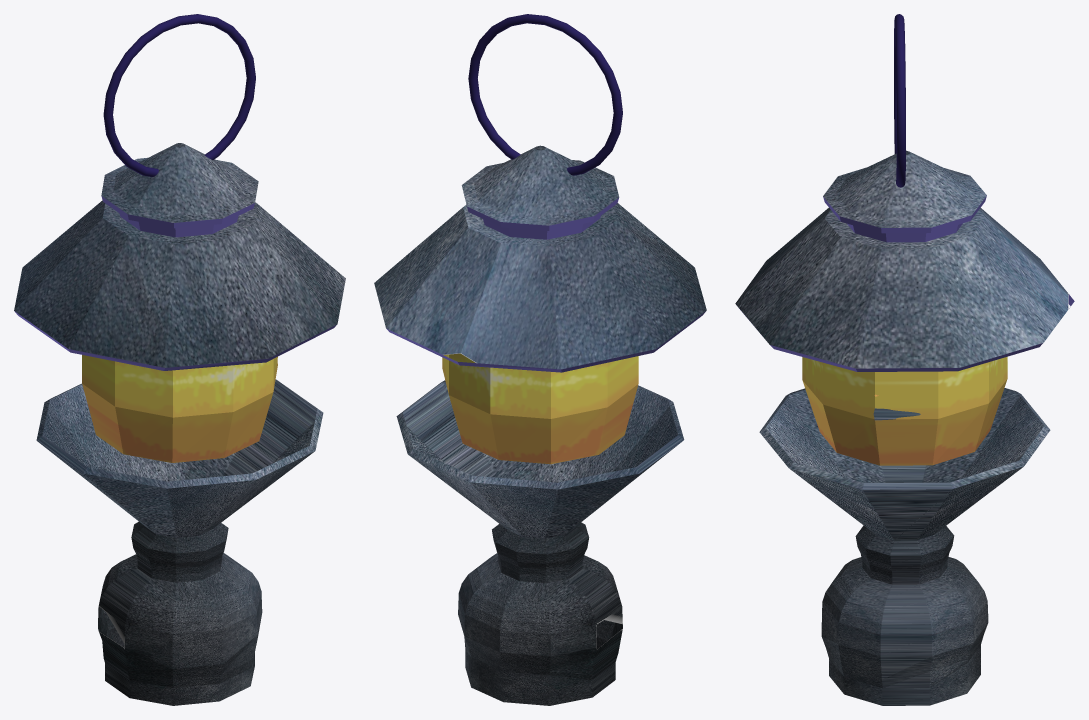
The model's file is lamptextured(ANIMATION).FBX.
3 renders of one model, left to right at view 1: azimuth 30°, elevation 25°; view 2: azimuth 150°, elevation 25°; view 3: azimuth 270°, elevation 25°, orthographic.
Parts seen in each view (by area): view 1: Cylinder001; view 2: Cylinder001; view 3: Cylinder001.
Boxes of the visible parts, x1,y1,x2,y2 form: Cylinder001: (14, 14, 345, 705); Cylinder001: (374, 14, 706, 705); Cylinder001: (735, 14, 1074, 705).
Size of the model in its own units: 8.98 by 20.07 by 9.47.
1 material, 1 textured.
